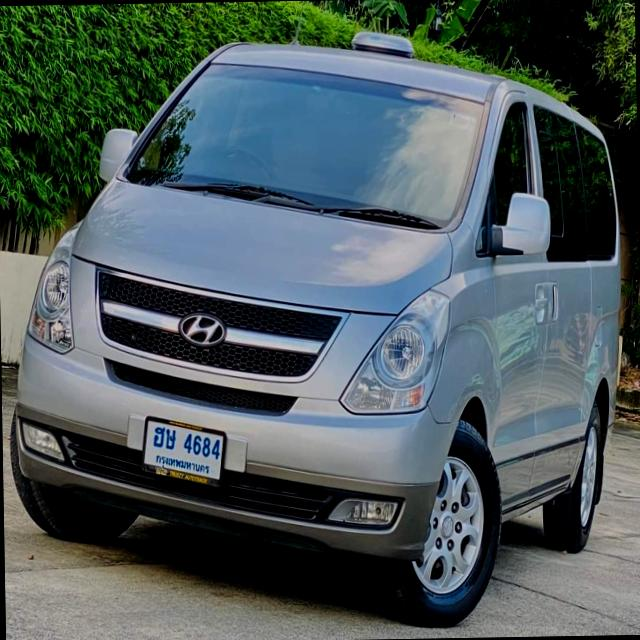license_plate: (136, 408, 230, 494)
